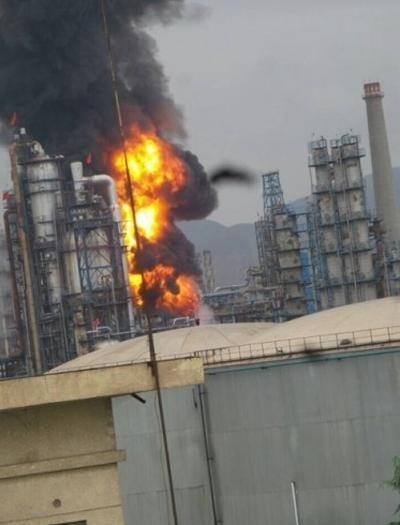fire: (115, 133, 196, 313)
